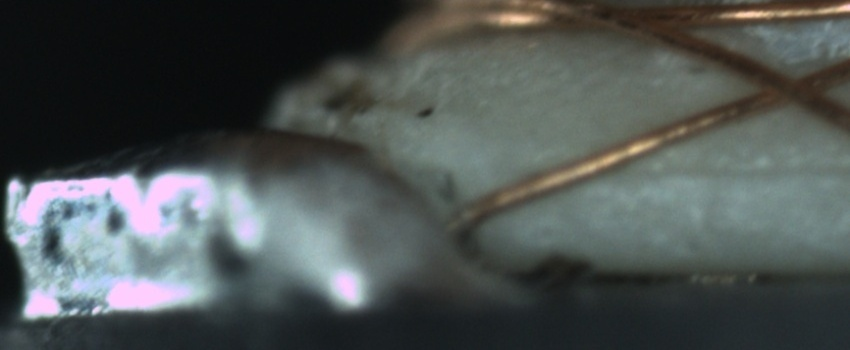CL: (745, 56, 836, 114)
DL: (608, 136, 848, 208)
